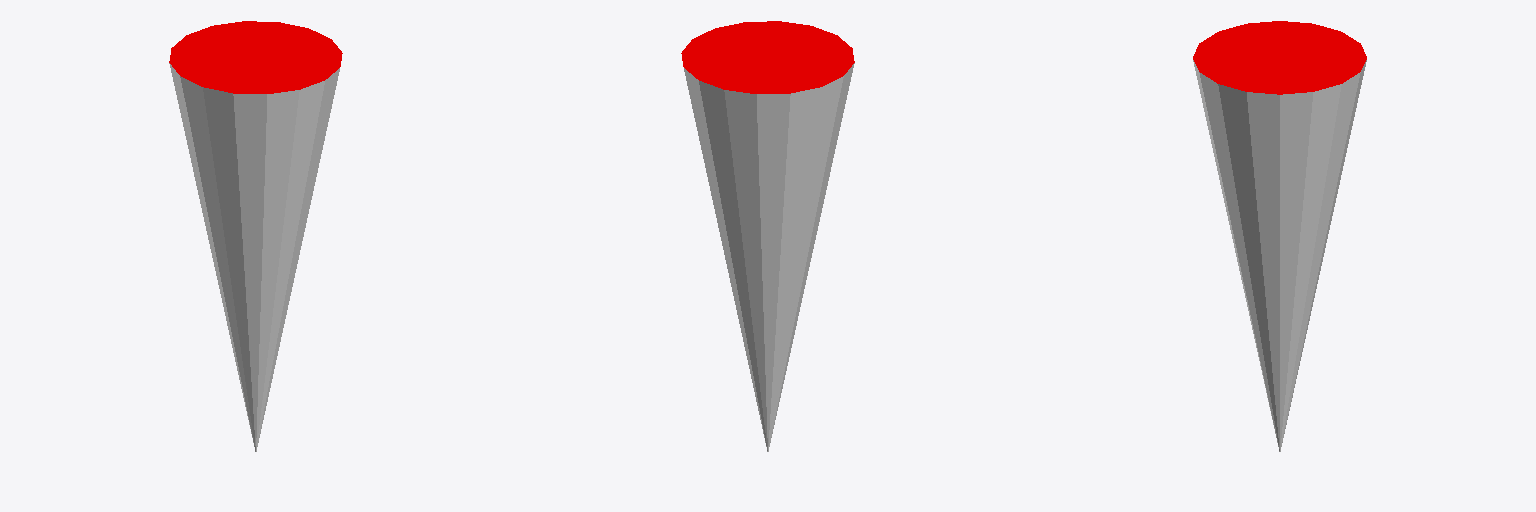
The model's file is triangle.obj.
The picture shows the model from 3 angles: view 1: azimuth 30°, elevation 25°; view 2: azimuth 150°, elevation 25°; view 3: azimuth 270°, elevation 25°; orthographic projection.
Bounding box in the file's own units: 0.2 × 0.5 × 0.2.